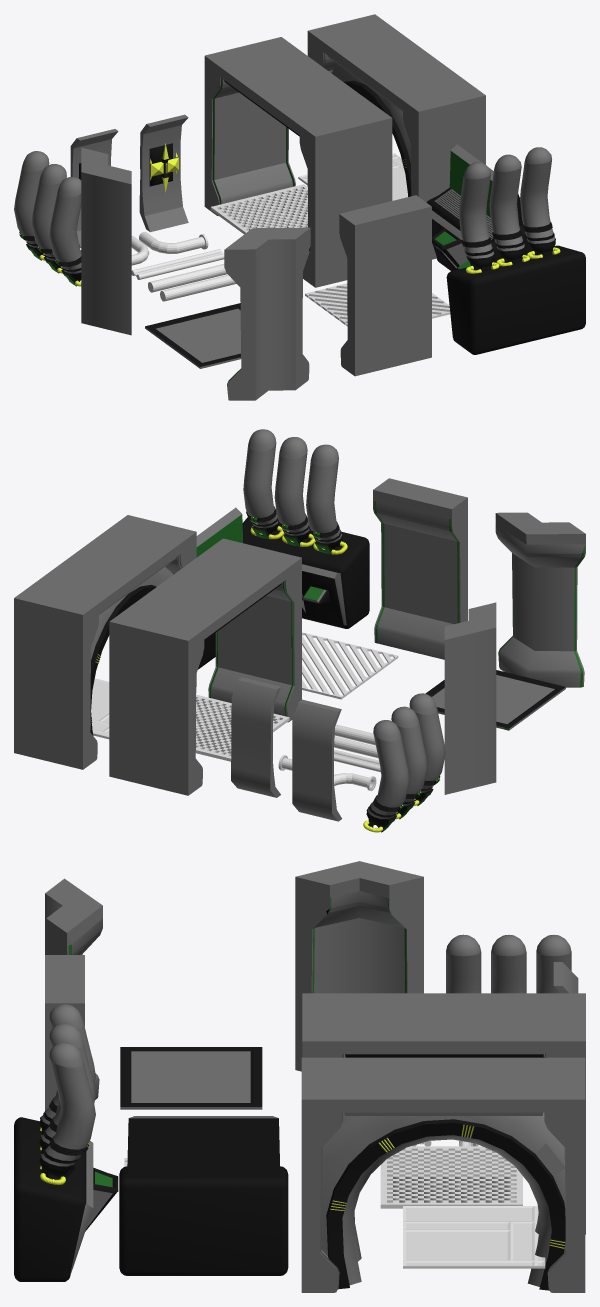
Rendered from VGA122_Derek_Montalbetti_A2.FBX.
The picture shows the model from 3 angles, top to bottom: view 1: azimuth 30°, elevation 25°; view 2: azimuth 150°, elevation 25°; view 3: azimuth 270°, elevation 25°; orthographic projection. The views are drawn at different scales.
Visible parts, largest first — view 1: archway, oxygen hub, doorway, Wall, corner1, corner2, oxygen tanks, light panel, floorplane, computer, grate, crossgrid (+6 smaller); view 2: archway, doorway, oxygen hub, Wall, corner1, corner2, oxygen tanks, wallwithpipes, light panel, crossgrid, floorplane, grate (+4 smaller); view 3: doorway, computer, archway, oxygen hub, corner2, floorplane, floor, grate, oxygen tanks, corner1, Wall, wallwithpipes.
Part boxes in pixels (left/top/right/bottom): archway: left=204, top=37, right=392, bottom=287; oxygen hub: left=446, top=147, right=585, bottom=354; doorway: left=307, top=14, right=485, bottom=259; Wall: left=339, top=195, right=431, bottom=376; corner1: left=224, top=227, right=310, bottom=400; corner2: left=81, top=147, right=131, bottom=335; oxygen tanks: left=14, top=151, right=81, bottom=286; light panel: left=139, top=114, right=188, bottom=232; floorplane: left=145, top=303, right=240, bottom=368; computer: left=427, top=144, right=532, bottom=271; grate: left=210, top=184, right=307, bottom=234; crossgrid: left=305, top=283, right=450, bottom=326; archway: left=109, top=538, right=301, bottom=795; doorway: left=14, top=515, right=196, bottom=769; oxygen hub: left=242, top=429, right=369, bottom=628; Wall: left=373, top=478, right=467, bottom=659; corner1: left=495, top=512, right=585, bottom=687; corner2: left=444, top=602, right=496, bottom=794; oxygen tanks: left=363, top=693, right=445, bottom=832; wallwithpipes: left=292, top=699, right=341, bottom=821; light panel: left=231, top=677, right=280, bottom=797; crossgrid: left=302, top=632, right=398, bottom=699; floorplane: left=425, top=670, right=565, bottom=730; grate: left=195, top=694, right=289, bottom=761; doorway: left=301, top=1057, right=585, bottom=1292; computer: left=119, top=1116, right=288, bottom=1275; archway: left=302, top=993, right=585, bottom=1234; oxygen hub: left=14, top=1004, right=118, bottom=1281; corner2: left=295, top=861, right=423, bottom=1071; floorplane: left=120, top=1047, right=262, bottom=1109; floor: left=403, top=1206, right=545, bottom=1268; grate: left=380, top=1146, right=522, bottom=1208; oxygen tanks: left=446, top=934, right=571, bottom=1057; corner1: left=45, top=878, right=102, bottom=1099; Wall: left=45, top=955, right=84, bottom=1110; wallwithpipes: left=553, top=962, right=578, bottom=993.
Bounding box in the file's own units: 200 × 87.02 × 201.
